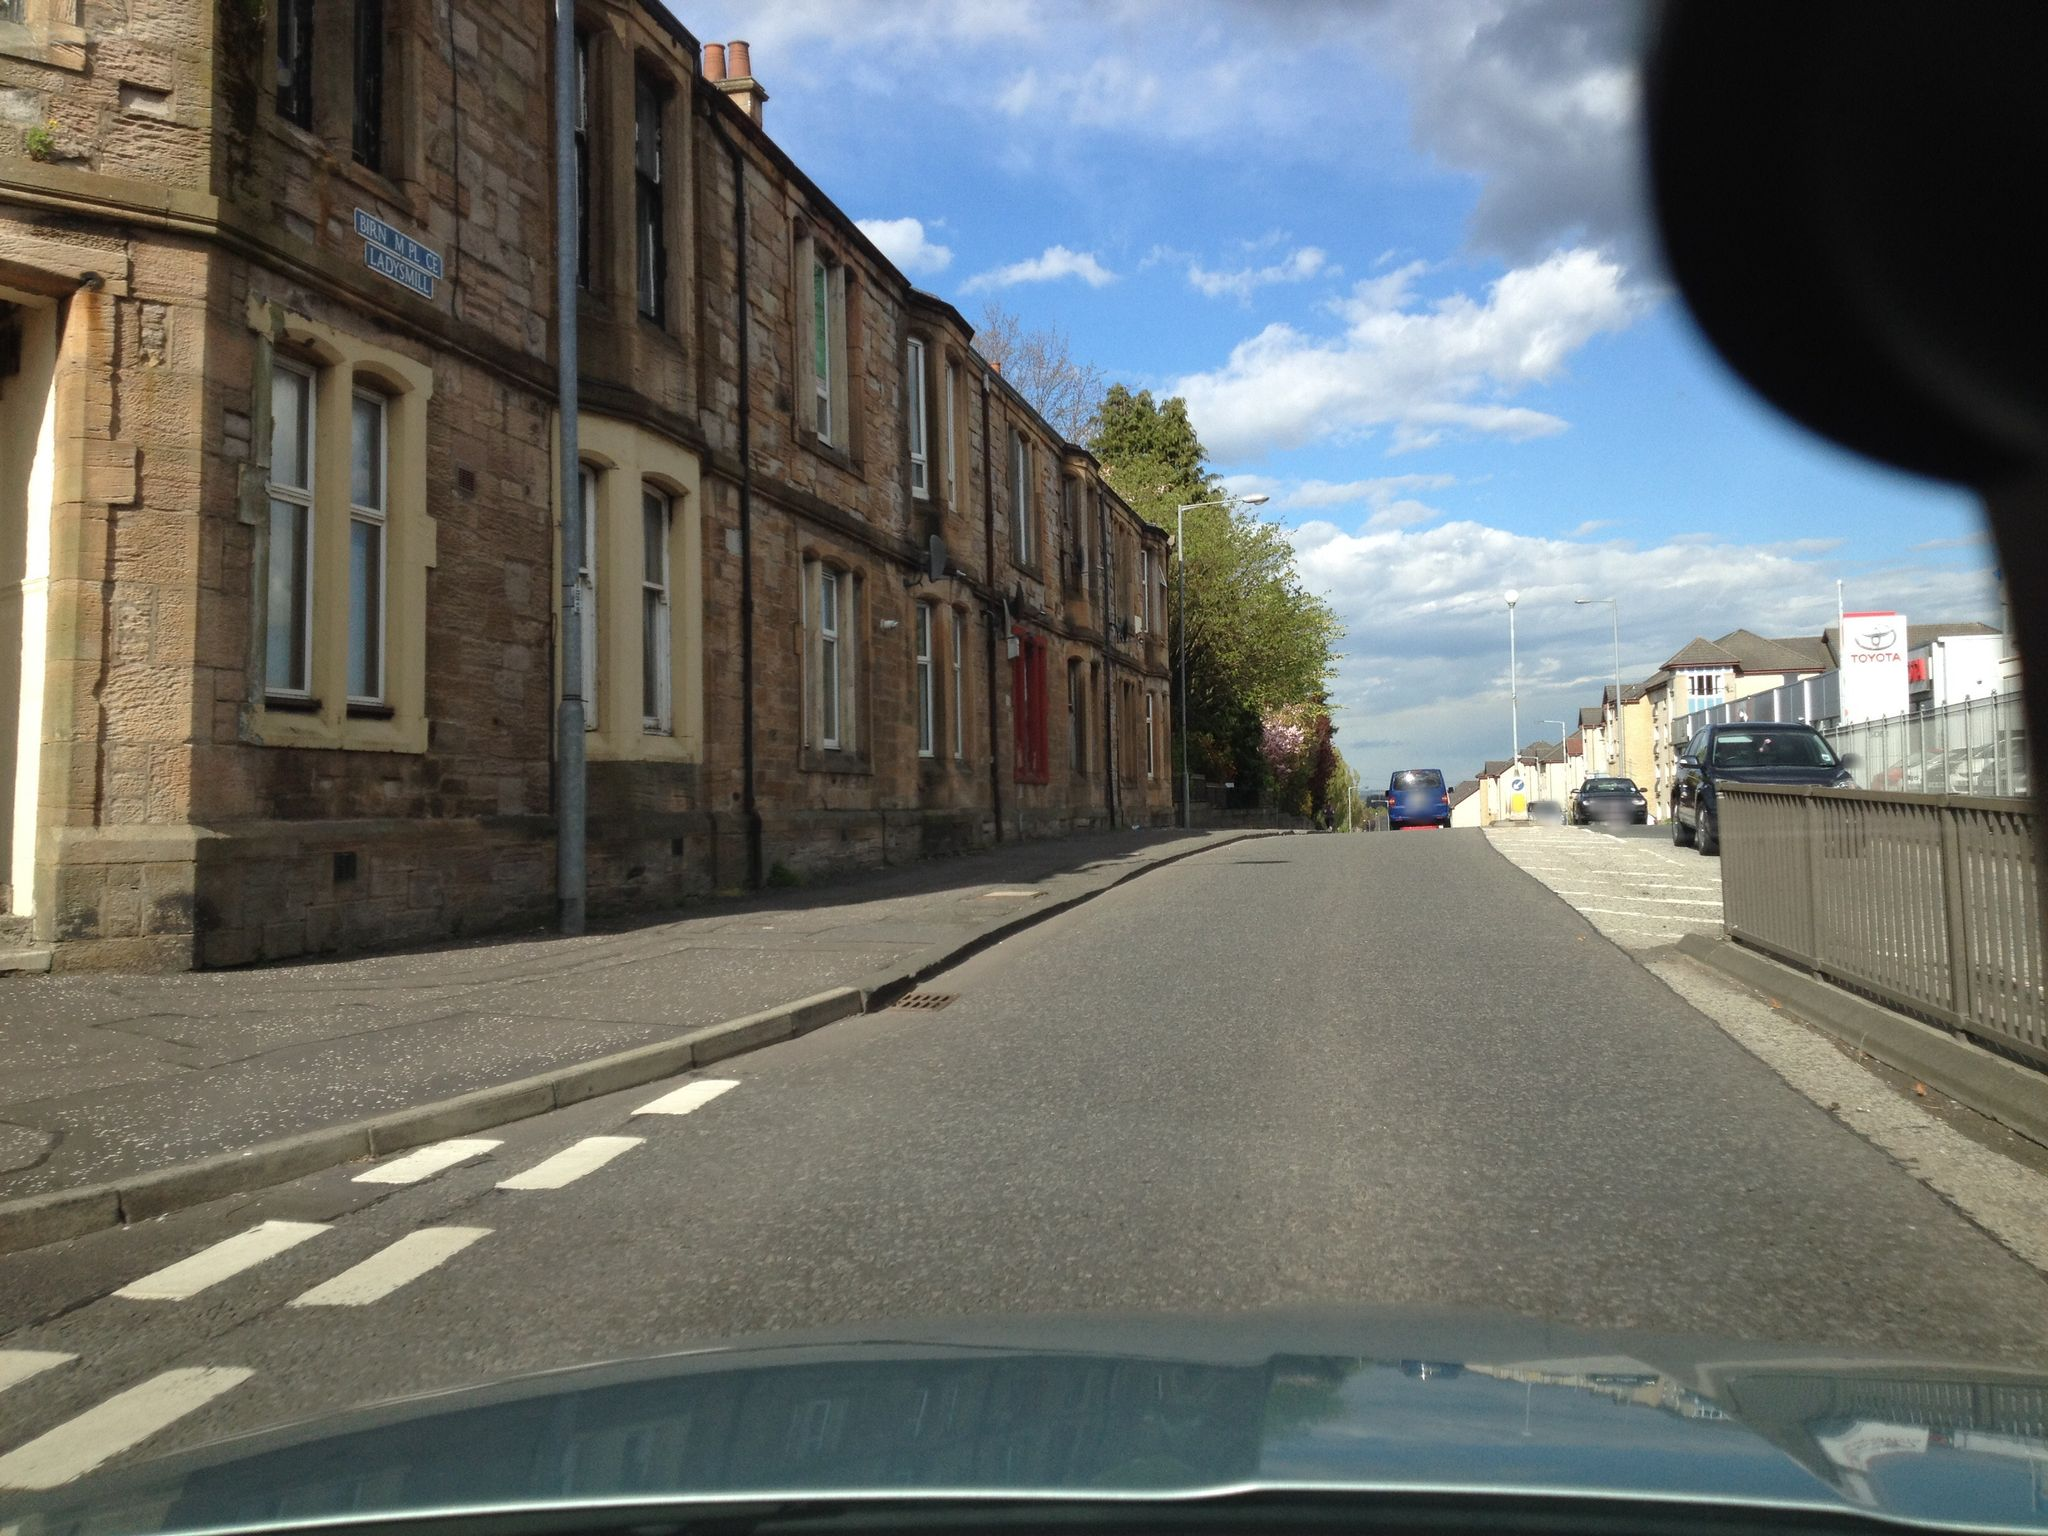car: (1669, 721, 1863, 858), (1384, 768, 1455, 828), (1569, 778, 1650, 826)
